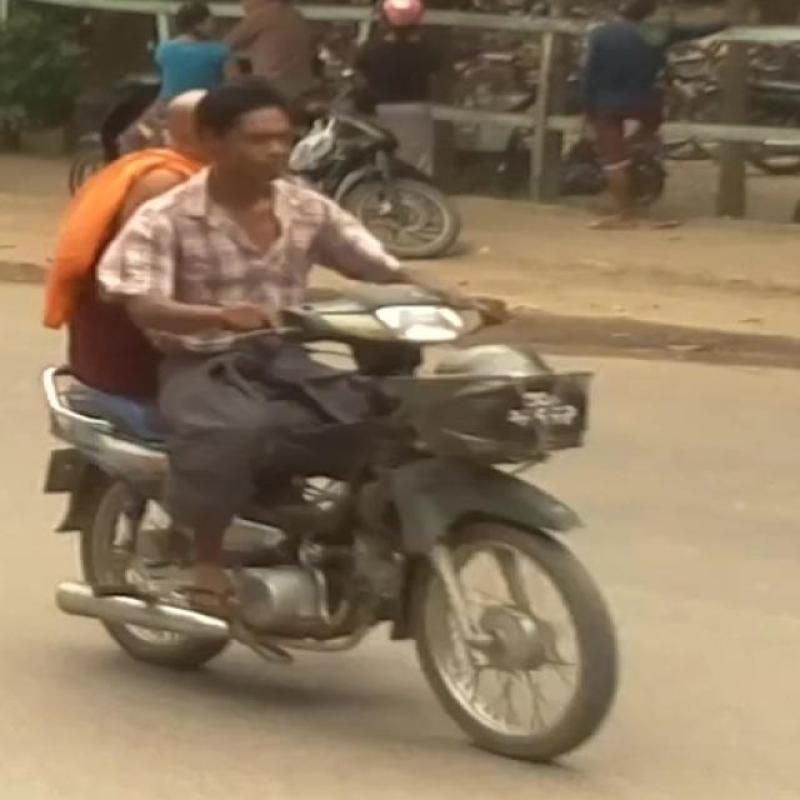nohelmet: (175, 68, 346, 211)
